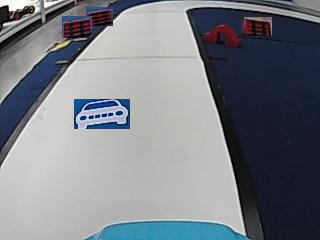bridge: (204, 24, 239, 45)
